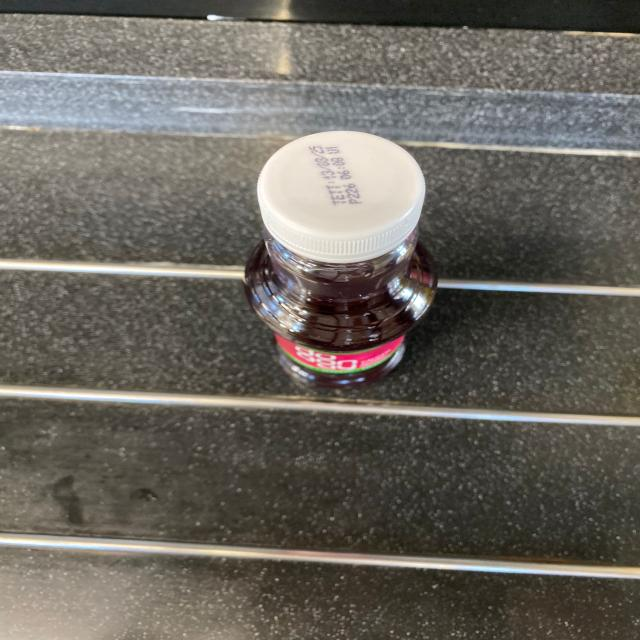yan_yemek: (241, 128, 438, 390)
